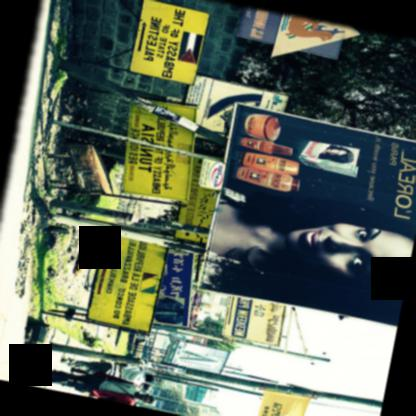handbag: (88, 371, 128, 393)
